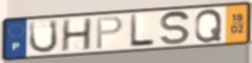H: (60, 17, 94, 53)
L: (129, 14, 156, 49)
P: (94, 15, 124, 51)
Q: (194, 8, 224, 44)
S: (159, 10, 191, 46)
U: (28, 19, 60, 55)
